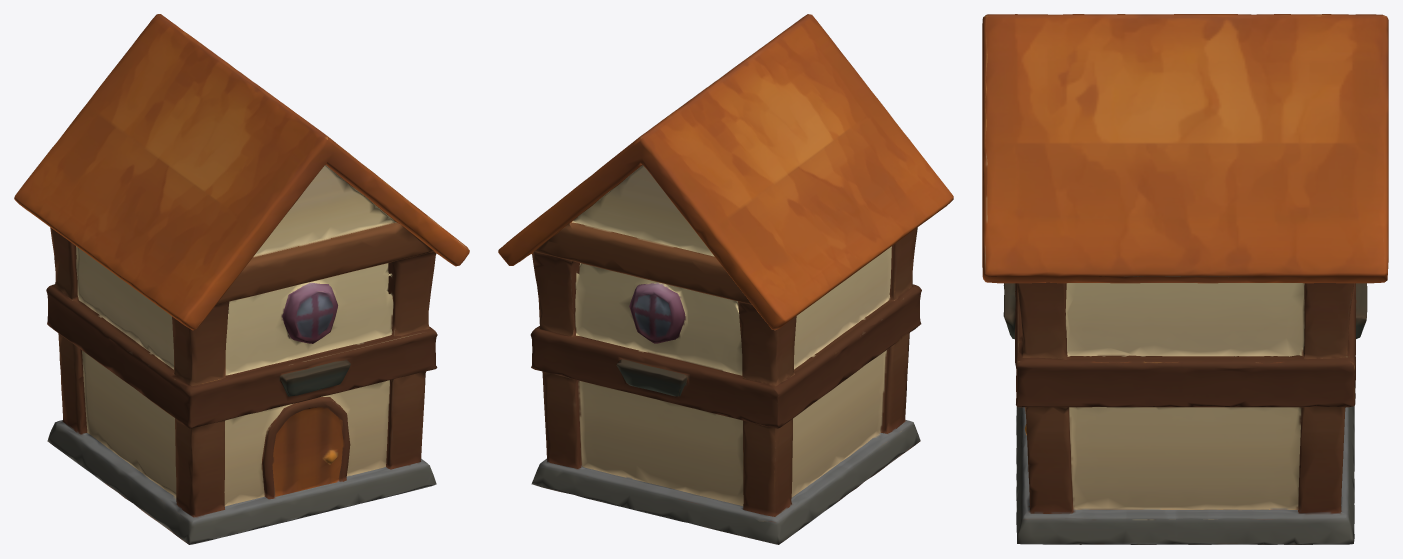
The model's file is trellis2_00001_.glb.
3 views of the same model, side by side, from view 1: azimuth 30°, elevation 25°; view 2: azimuth 150°, elevation 25°; view 3: azimuth 270°, elevation 25° (orthographic). The views are drawn at different scales.
Size of the model in its own units: 0.7812 by 1 by 0.8053.
Materials: 1 (1 with a texture image).
